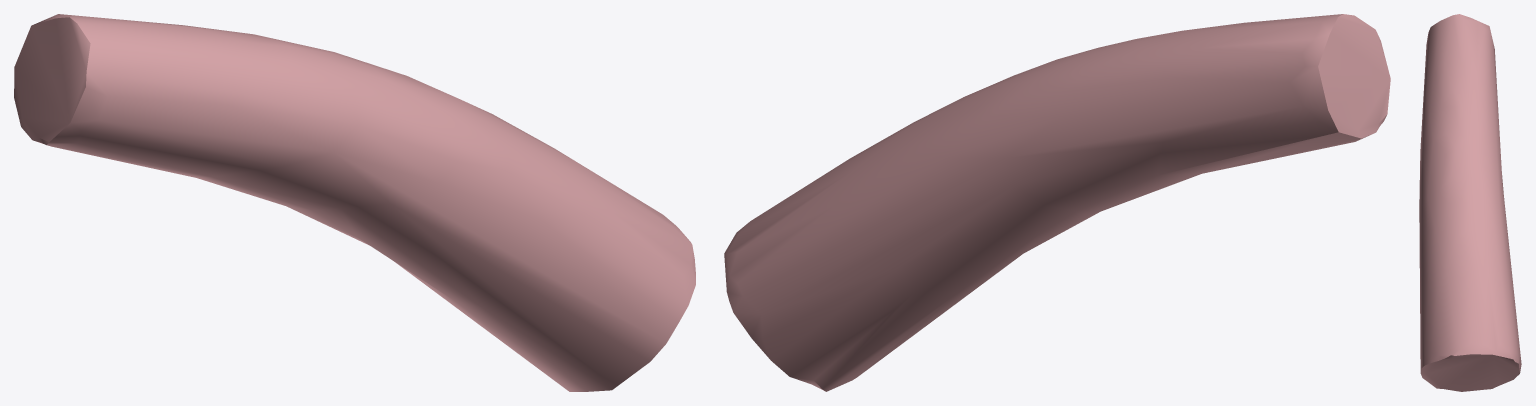
The model's file is fma68213_fj2517.glb.
3 renders of one model, left to right at view 1: azimuth 30°, elevation 25°; view 2: azimuth 150°, elevation 25°; view 3: azimuth 270°, elevation 25°, orthographic. The views are drawn at different scales.
Parts seen in each view (by area): view 1: FMA68213_FJ2517; view 2: FMA68213_FJ2517; view 3: FMA68213_FJ2517.
Part boxes in pixels (x1,y1,x2,y2): FMA68213_FJ2517: (14, 14, 695, 391); FMA68213_FJ2517: (724, 14, 1390, 391); FMA68213_FJ2517: (1419, 14, 1521, 391).
Size of the model in its own units: 0.0113 by 0.00819 by 0.00299.
